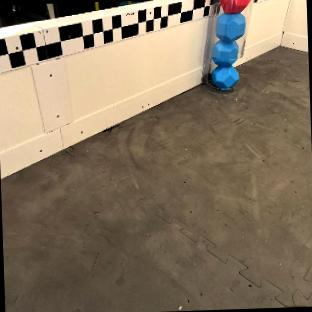V5_BLUE: (211, 13, 245, 88), (212, 64, 239, 89)
V5_RED: (220, 0, 250, 13)
